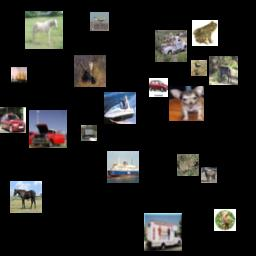airplane: (90, 12, 109, 31)
automobile: (29, 110, 67, 148), (0, 107, 26, 133), (149, 78, 168, 97)
bird: (191, 60, 207, 76)
deer: (74, 55, 106, 87), (209, 56, 238, 85), (214, 209, 236, 231)
dog: (169, 86, 204, 121)
frog: (192, 20, 218, 46), (177, 154, 199, 176)
ship: (104, 92, 136, 124), (107, 151, 139, 183), (11, 67, 27, 83)
truck: (144, 213, 182, 251), (155, 30, 187, 62), (81, 125, 97, 141)
